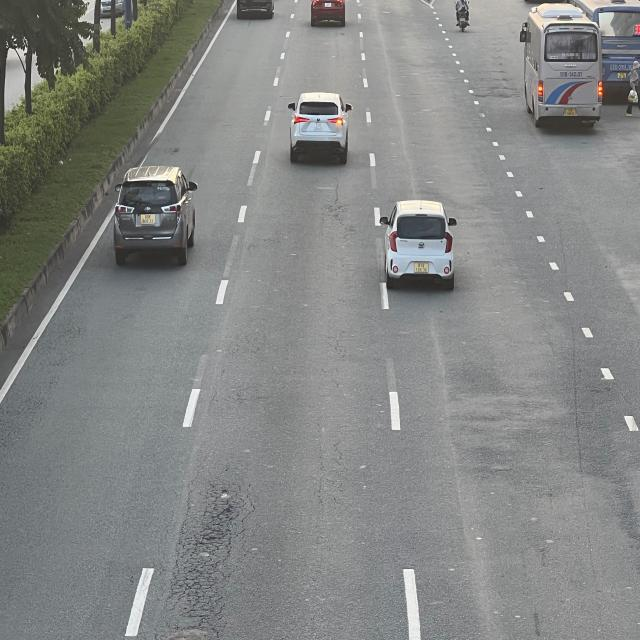car: (112, 166, 198, 264), (382, 200, 460, 290), (289, 94, 355, 164)
coach: (521, 3, 602, 128)
